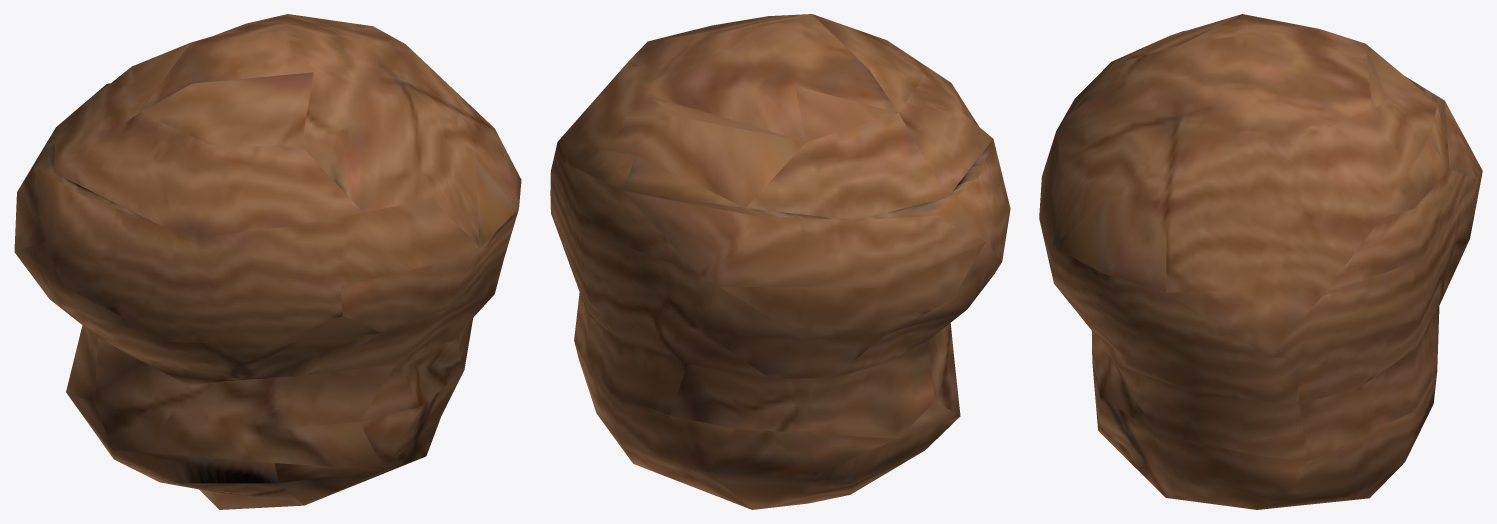
File: rock_desert_lod2.glb
3 views of the same model, side by side, from view 1: azimuth 30°, elevation 25°; view 2: azimuth 150°, elevation 25°; view 3: azimuth 270°, elevation 25° (orthographic). The views are drawn at different scales.
Visible parts, largest first — view 1: rock_desert_lod2; view 2: rock_desert_lod2; view 3: rock_desert_lod2.
Boxes of the visible parts, x1,y1,x2,y2 form: rock_desert_lod2: (14,14,521,509); rock_desert_lod2: (550,14,1010,509); rock_desert_lod2: (1039,14,1482,509).
Size of the model in its own units: 2.07 by 2.07 by 1.8.
1 material, 1 textured.
